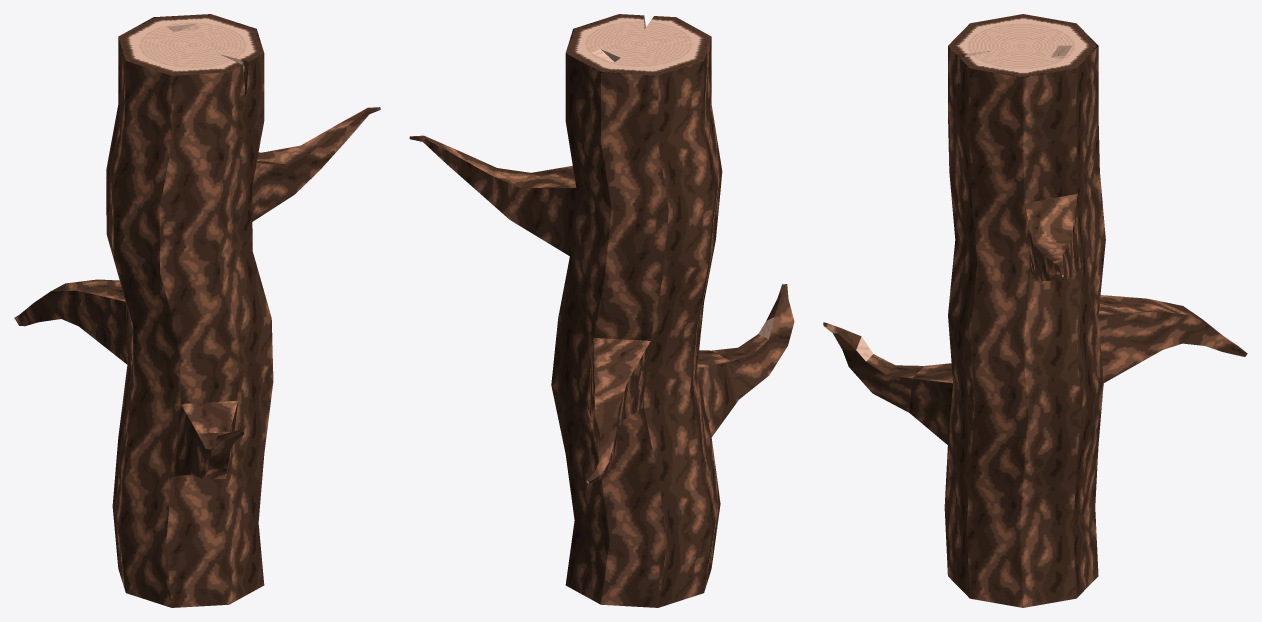
File: trunk_textured.fbx
3 renders of one model, left to right at view 1: azimuth 30°, elevation 25°; view 2: azimuth 150°, elevation 25°; view 3: azimuth 270°, elevation 25°, orthographic.
Parts seen in each view (by area): view 1: pCylinder1; view 2: pCylinder1; view 3: pCylinder1.
Boxes of the visible parts, bbox=[...] form: pCylinder1: bbox=[14, 14, 380, 607]; pCylinder1: bbox=[409, 14, 794, 607]; pCylinder1: bbox=[823, 14, 1247, 607].
Size of the model in its own units: 19.65 by 34.95 by 25.35.
1 material, 1 textured.
